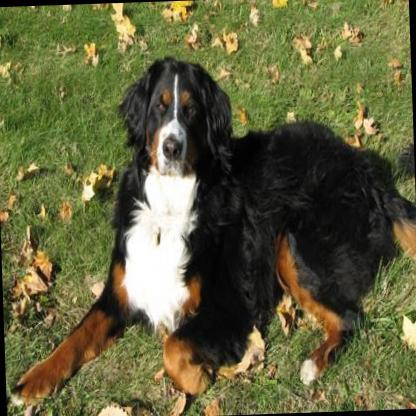Bernese_mountain_dog: (0, 47, 416, 408)
